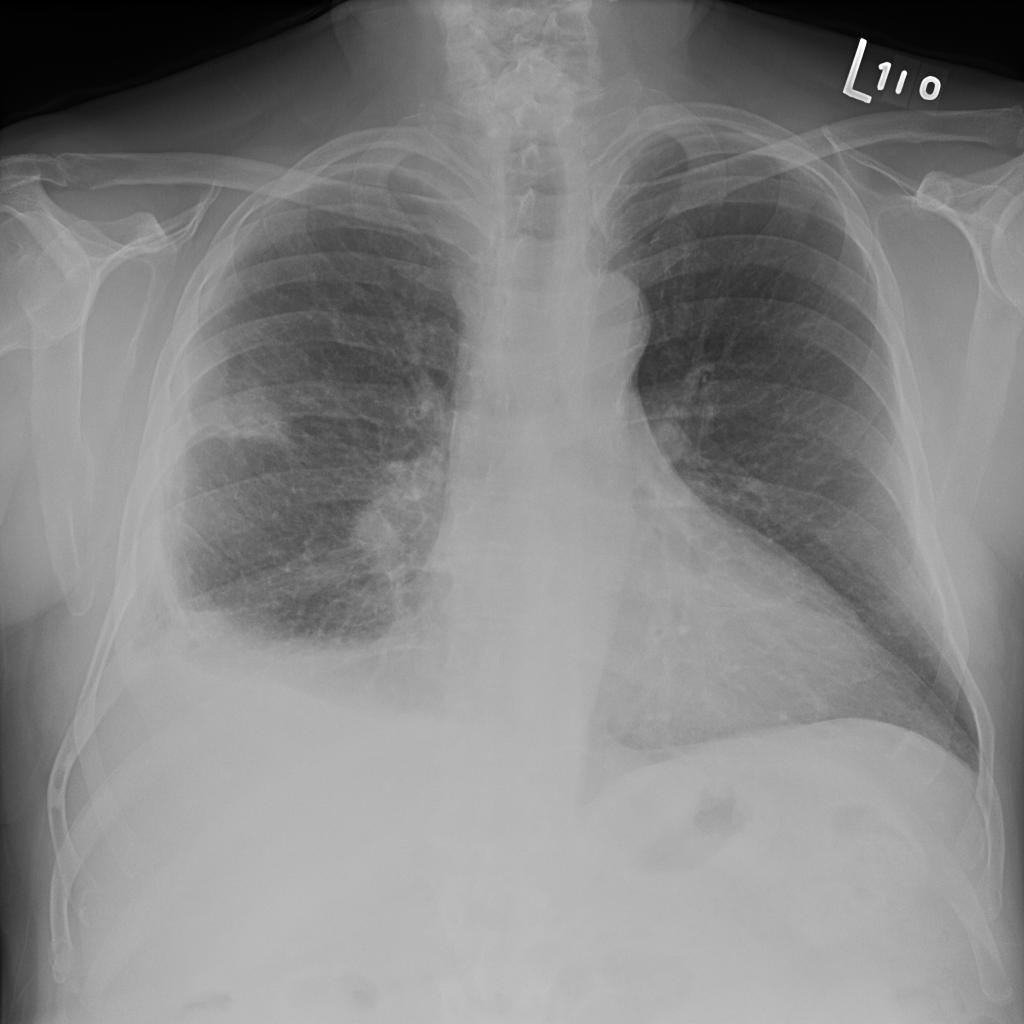Nodule: (97, 196, 146, 228)
